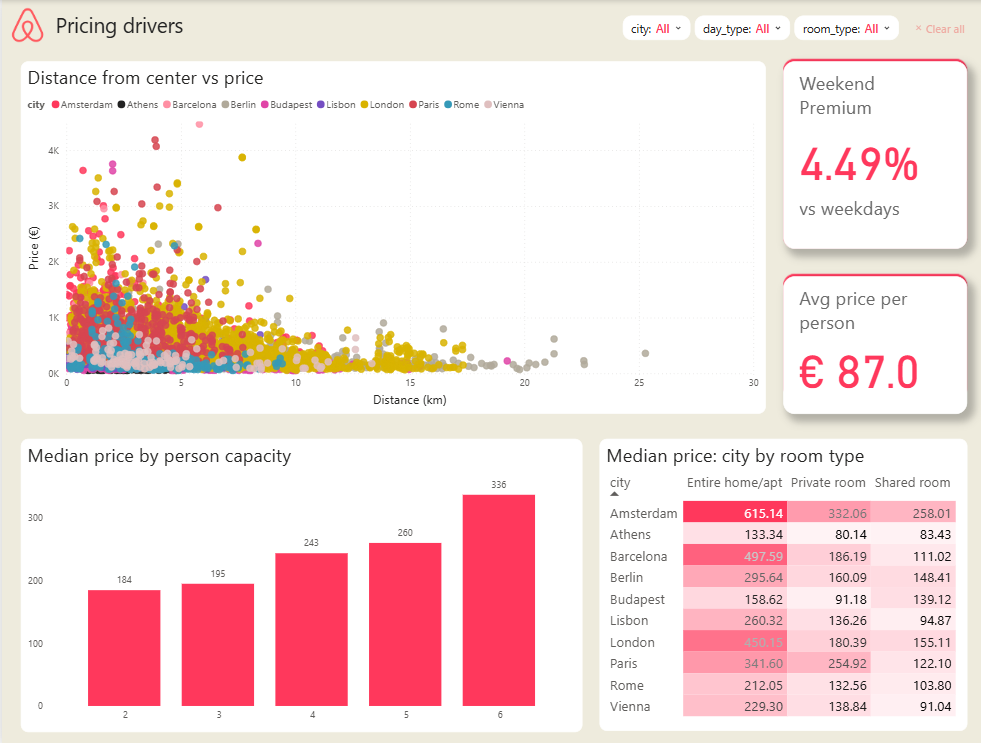

Layout of this report page (visuals, bound fields, positions):
{"tool":"powerbi","page":{"name":"Pricing drivers","canvas":[1280,970],"ordinal":1},"visuals":[{"type":"textbox","box":[52.5,3.8,201.2,56.2],"z":0},{"type":"PBI_CV_7B952816_A48F_49B4_9E13_15E3BB2C0337","title":"Total Listings","fields":{"Values":["CountNonNull(GOLD fact_listing.listing_key)"]},"box":[1015.6,355.8,239,162.3],"z":1000},{"type":"PBI_CV_7B952816_A48F_49B4_9E13_15E3BB2C0337","title":"Total Listings","fields":{"Values":["CountNonNull(GOLD fact_listing.listing_key)"]},"box":[1015.6,76.6,239,246.8],"z":2000},{"type":"PBI_CV_7B952816_A48F_49B4_9E13_15E3BB2C0337","title":"Avg price per person","fields":{"Values":["GOLD fact_listing.Price per person"],"category":["GOLD fact_listing.is_price_outlier"]},"box":[1015.6,358.4,239,179.2],"z":3000},{"type":"PBI_CV_7B952816_A48F_49B4_9E13_15E3BB2C0337","title":"Weekend Premium","fields":{"Values":["GOLD fact_listing.Weekend Premium %"]},"box":[1015.6,79.2,239,244.2],"z":4000},{"type":"scatterChart","title":"Distance from center vs price","fields":{"X":["GOLD fact_listing.dist"],"Y":["GOLD fact_listing.real_sum"],"Series":["GOLD dim_city.city"]},"box":[24.7,79.2,968.8,458.4],"z":5000},{"type":"clusteredColumnChart","title":"Median price by person capacity","fields":{"Category":["GOLD fact_listing.person_capacity"],"Y":["Median(GOLD fact_listing.real_sum)"]},"box":[25,570,730,381.7],"z":6000},{"type":"smartFilterBarSDKA9F7BD62E04ADCE9DD7450D052A5DB60","fields":{"fields":["GOLD dim_city.city","GOLD dim_day_type.day_type","GOLD dim_room_type.room_type"]},"box":[458.1,11.3,822.6,225.8],"z":7000},{"type":"pivotTable","title":"Median price: city by room type","fields":{"Rows":["GOLD dim_city.city"],"Values":["Median(GOLD fact_listing.real_sum)"],"Columns":["GOLD dim_room_type.room_type"]},"box":[776.7,570,478.3,380],"z":8000},{"type":"image","box":[0,8,66,49],"z":9000}]}

Visuals, with their boxes in screenshot pixels (x1, y1, x2, y2), scaled from the page's 1280x970 canvas onto the 981x743 screenshot:
textbox: {"x1": 40, "y1": 3, "x2": 194, "y2": 46}
"Total Listings" PBI_CV_7B952816_A48F_49B4_9E13_15E3BB2C0337: {"x1": 778, "y1": 273, "x2": 962, "y2": 397}
"Total Listings" PBI_CV_7B952816_A48F_49B4_9E13_15E3BB2C0337: {"x1": 778, "y1": 59, "x2": 962, "y2": 248}
"Avg price per person" PBI_CV_7B952816_A48F_49B4_9E13_15E3BB2C0337: {"x1": 778, "y1": 275, "x2": 962, "y2": 412}
"Weekend Premium" PBI_CV_7B952816_A48F_49B4_9E13_15E3BB2C0337: {"x1": 778, "y1": 61, "x2": 962, "y2": 248}
"Distance from center vs price" scatterChart: {"x1": 19, "y1": 61, "x2": 761, "y2": 412}
"Median price by person capacity" clusteredColumnChart: {"x1": 19, "y1": 437, "x2": 579, "y2": 729}
smartFilterBarSDKA9F7BD62E04ADCE9DD7450D052A5DB60 - GOLD dim_city.city x GOLD dim_day_type.day_type: {"x1": 351, "y1": 9, "x2": 980, "y2": 182}
"Median price: city by room type" pivotTable: {"x1": 595, "y1": 437, "x2": 962, "y2": 728}
image: {"x1": 0, "y1": 6, "x2": 51, "y2": 44}
